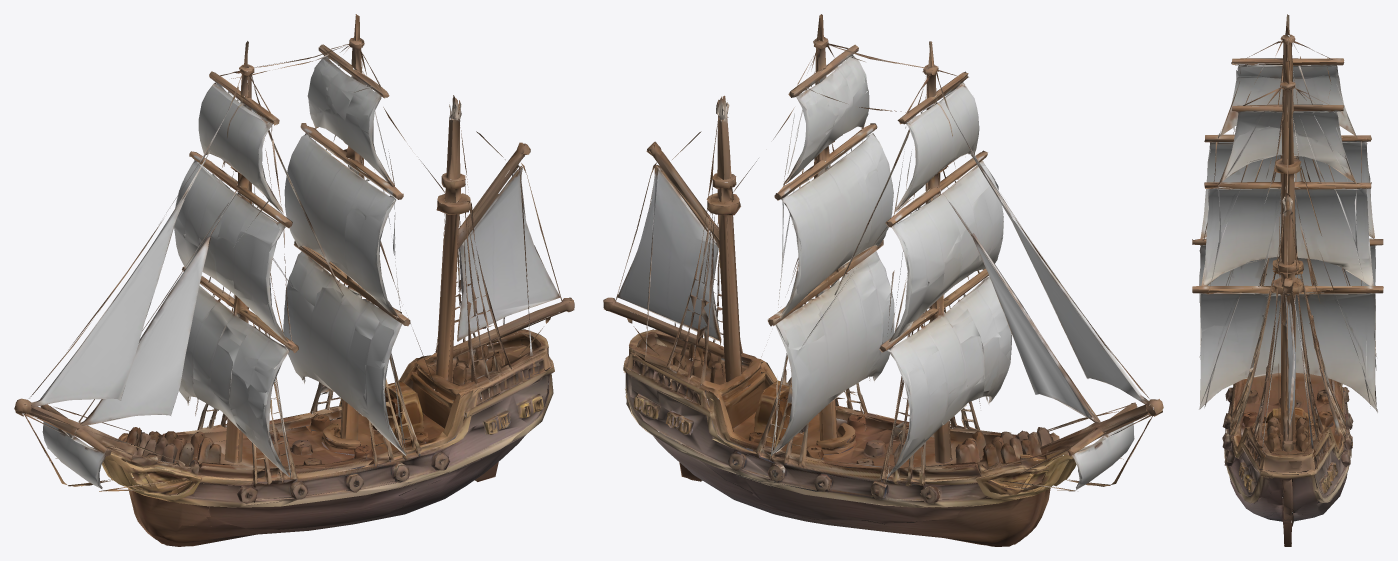
Rendered from sailing-ship.glb.
3 renders of one model, left to right at view 1: azimuth 30°, elevation 25°; view 2: azimuth 150°, elevation 25°; view 3: azimuth 270°, elevation 25°, orthographic. The views are drawn at different scales.
Visible parts, largest first — view 1: node_0; view 2: node_0; view 3: node_0.
Boxes of the visible parts, left/top/right/bottom form: node_0: left=14, top=14, right=574, bottom=546; node_0: left=603, top=14, right=1163, bottom=546; node_0: left=1192, top=14, right=1383, bottom=546.
Bounding box in the file's own units: 1.09 × 0.9333 × 0.3752.
Materials: 1 (1 with a texture image).
